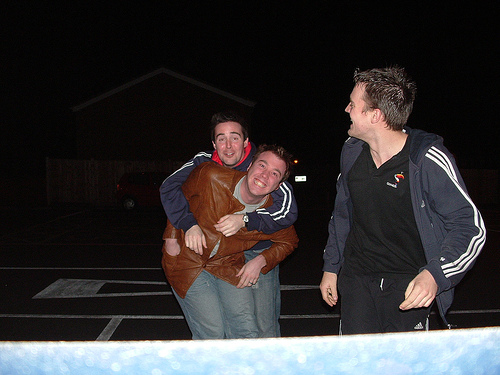without_mask: (343, 80, 387, 139), (247, 152, 286, 196), (211, 122, 248, 165)
